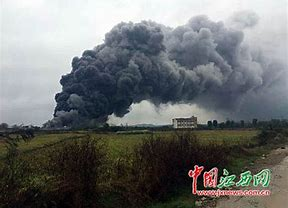smoke: (49, 7, 267, 127)
